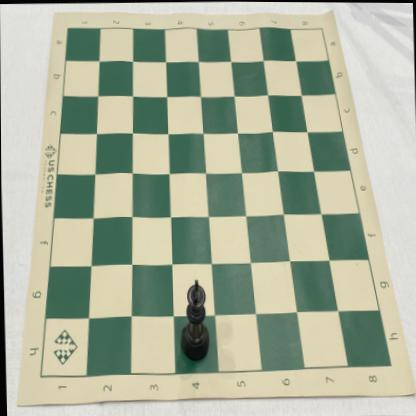black-king: (178, 278, 210, 363)
